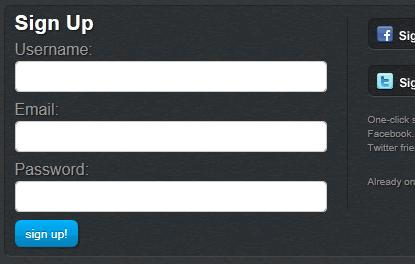button: (13, 218, 80, 247)
field: (14, 58, 328, 93), (12, 119, 327, 153), (14, 178, 327, 212)
